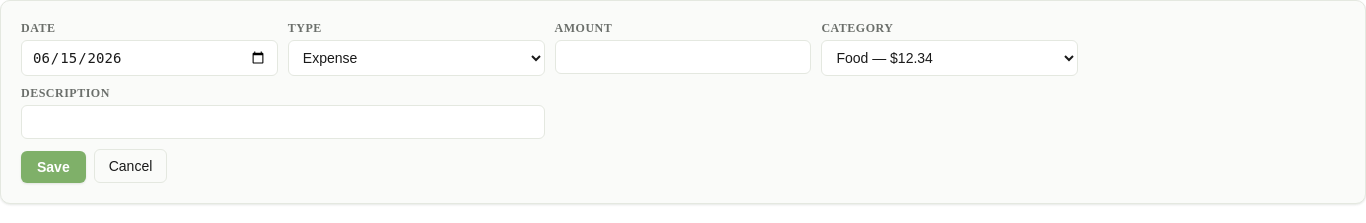
Test case: transaction descriptions offer tappable suggestions from household history
Type "cof" into the field with test id "tx-description" at {"x": 283, "y": 122}, box [21,105,545,139]
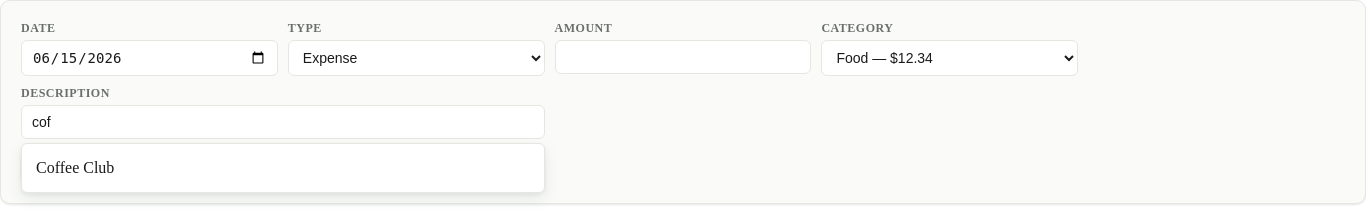
Now the list named "Previous descriptions" is shown, box [21,143,545,193]
Click the option "Coffee Club" at {"x": 75, "y": 168}, box [26,148,540,188]
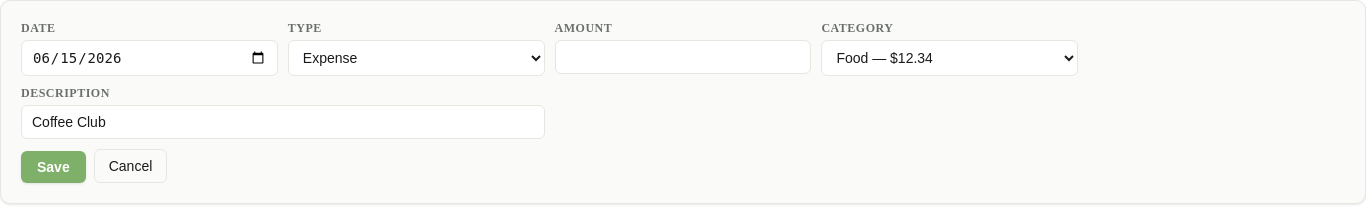
Now the field with test id "tx-description" holds "Coffee Club", box [21,105,545,139]
